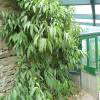Peach leaf: (26, 43, 31, 60), (17, 82, 24, 91), (22, 70, 28, 80), (16, 85, 21, 97), (30, 88, 37, 96), (53, 27, 57, 40), (19, 45, 23, 58), (40, 37, 43, 54), (3, 21, 8, 31), (30, 25, 34, 37), (29, 76, 33, 87), (24, 15, 28, 24), (19, 35, 22, 45), (47, 77, 50, 87)
